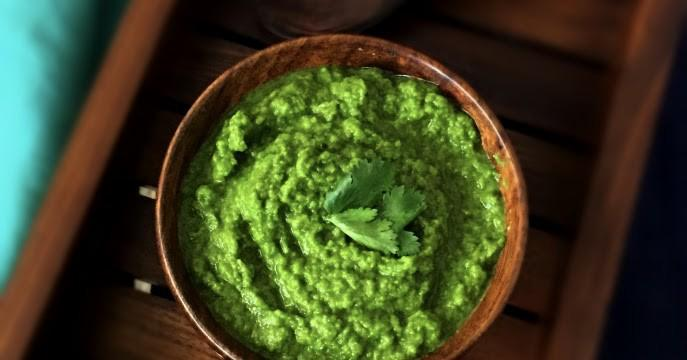GreenChutney: (176, 64, 502, 360)
